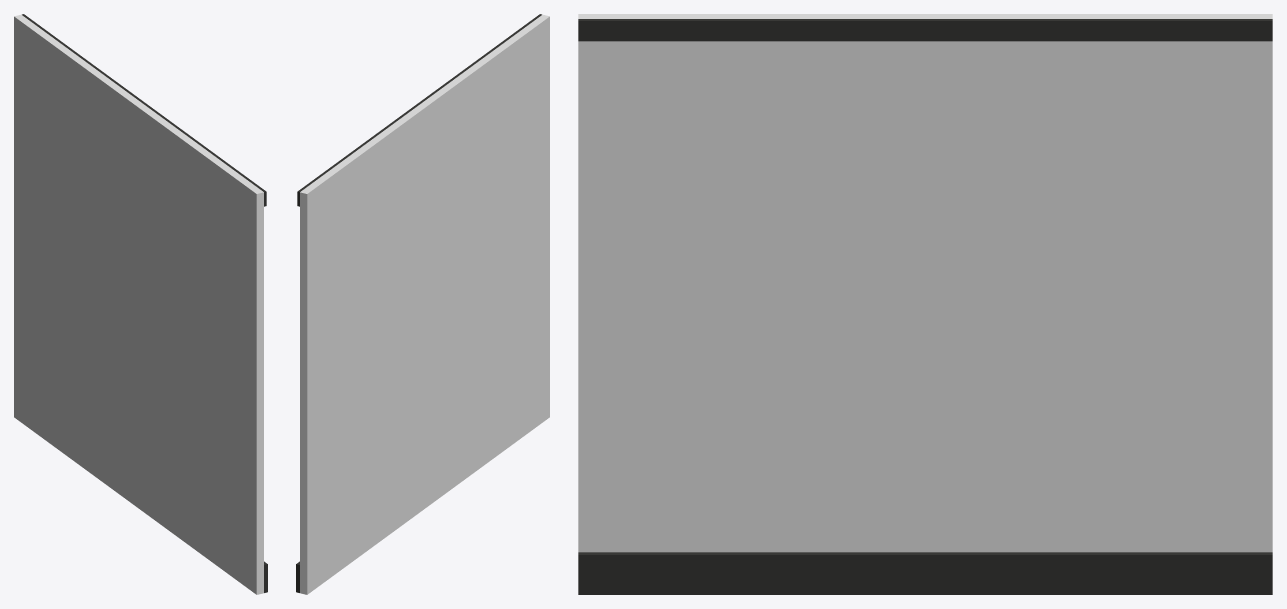
The model's file is ParedeLowPoly.fbx.
3 renders of one model, left to right at view 1: azimuth 30°, elevation 25°; view 2: azimuth 150°, elevation 25°; view 3: azimuth 270°, elevation 25°, orthographic. The views are drawn at different scales.
Visible parts, largest first — view 1: Cube; view 2: Cube; view 3: Cube.
Boxes of the visible parts, x1=… form: Cube: x1=14, y1=14, x2=267, y2=594; Cube: x1=296, y1=14, x2=549, y2=594; Cube: x1=578, y1=14, x2=1272, y2=594.
Bounding box in the file's own units: 36.83 × 1262 × 1385.
